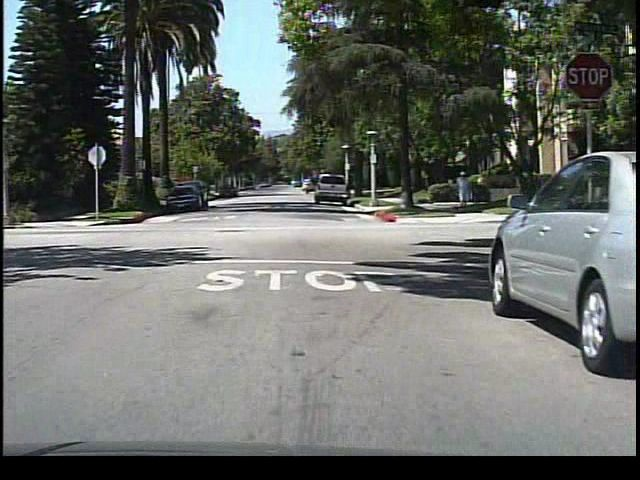person: (453, 168, 472, 215)
